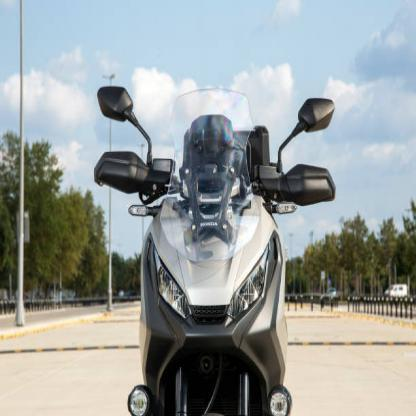Motorcycle: (89, 60, 343, 416)
